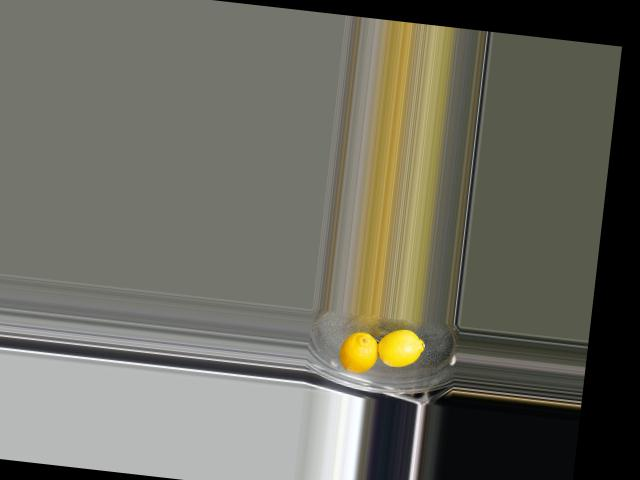lemon: (371, 327, 429, 372)
